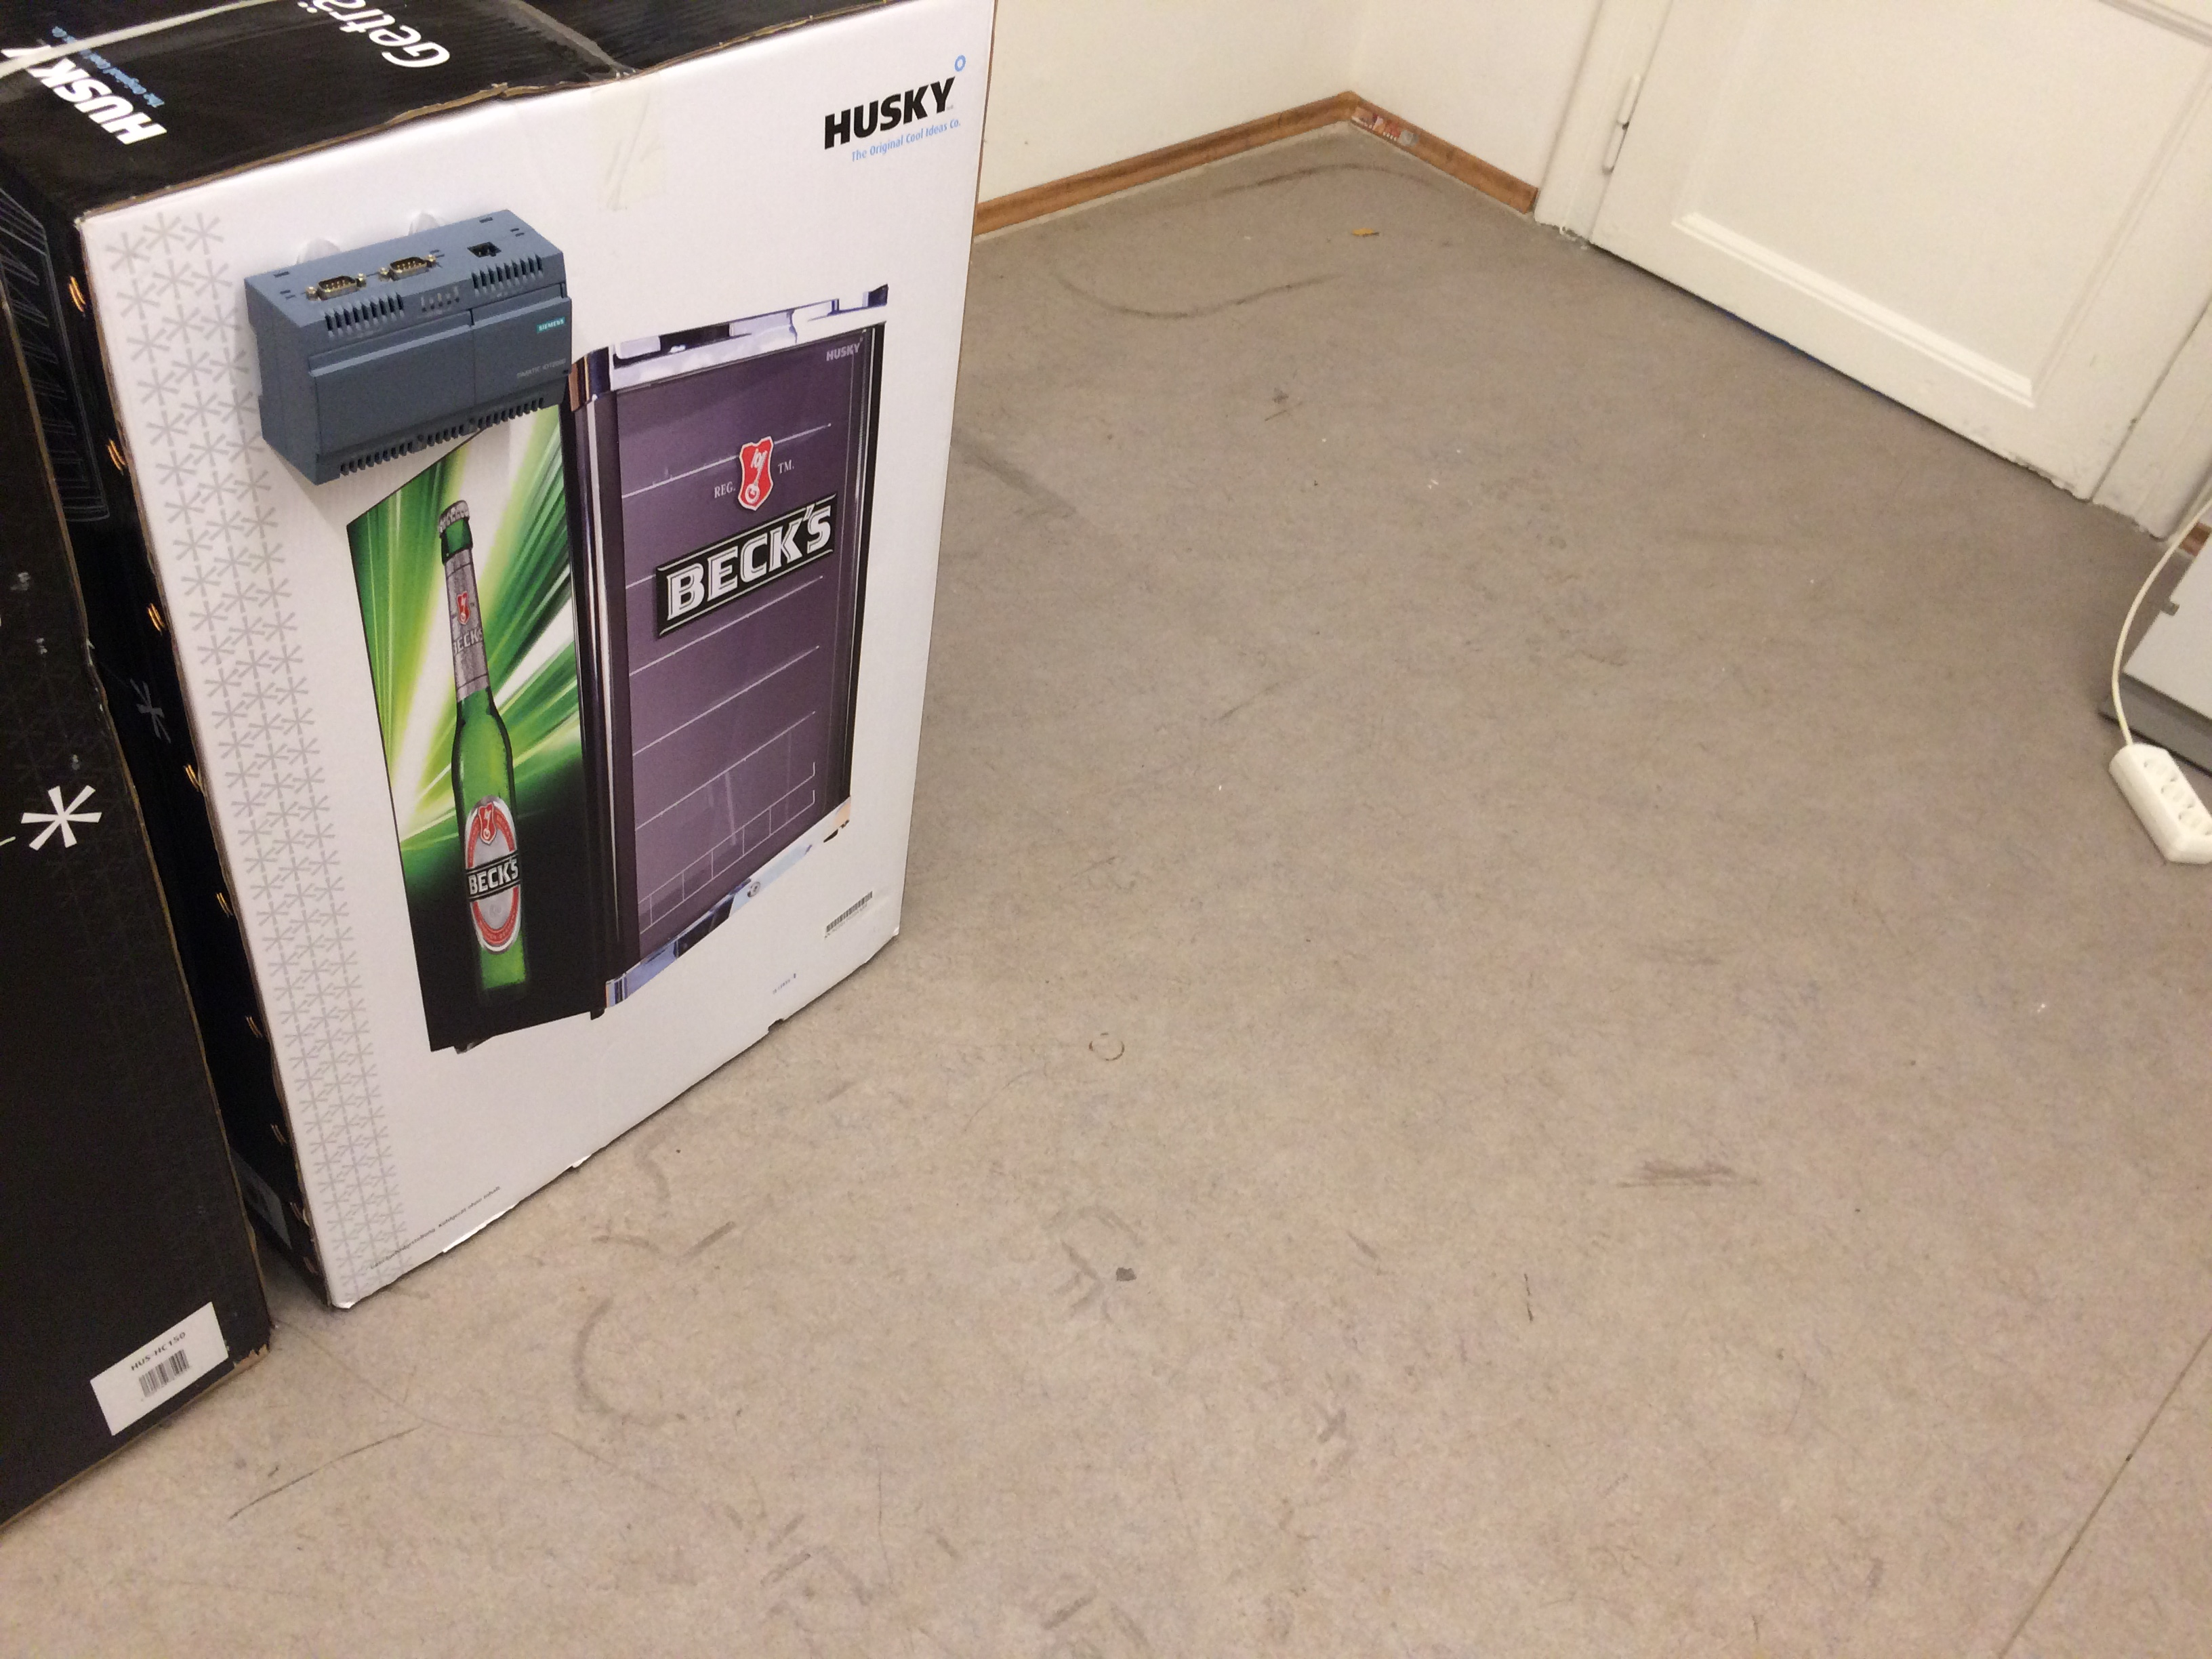iot2000: (240, 207, 577, 490)
